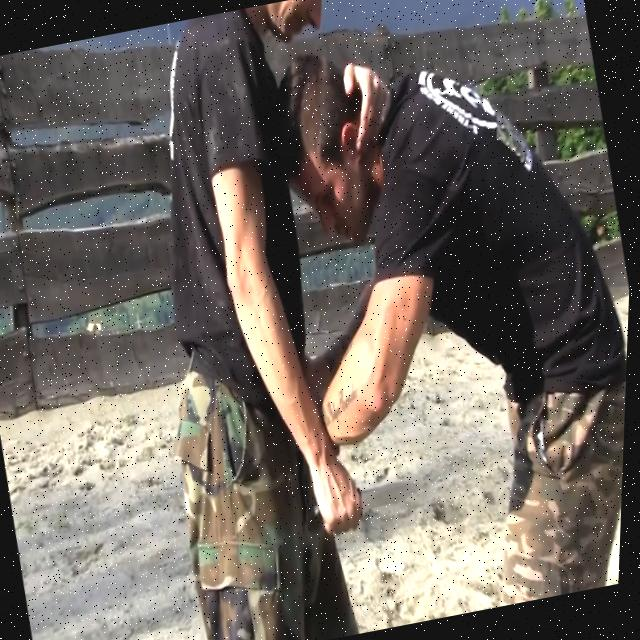knife: (360, 471, 429, 520)
